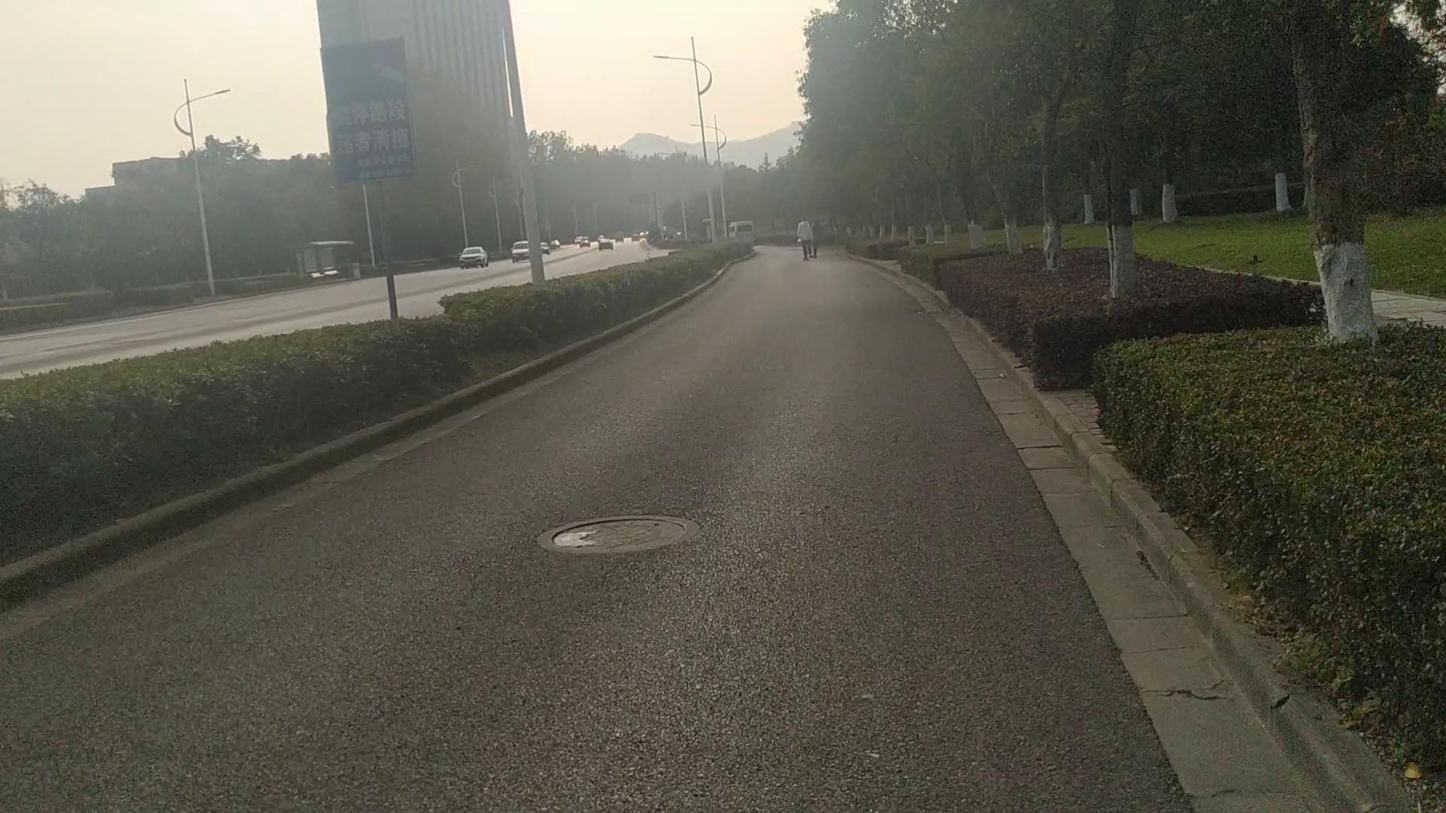car: (300, 239, 362, 280), (458, 245, 488, 269), (728, 221, 755, 242), (527, 241, 560, 256), (510, 242, 532, 261), (574, 236, 599, 248), (596, 236, 615, 248)
